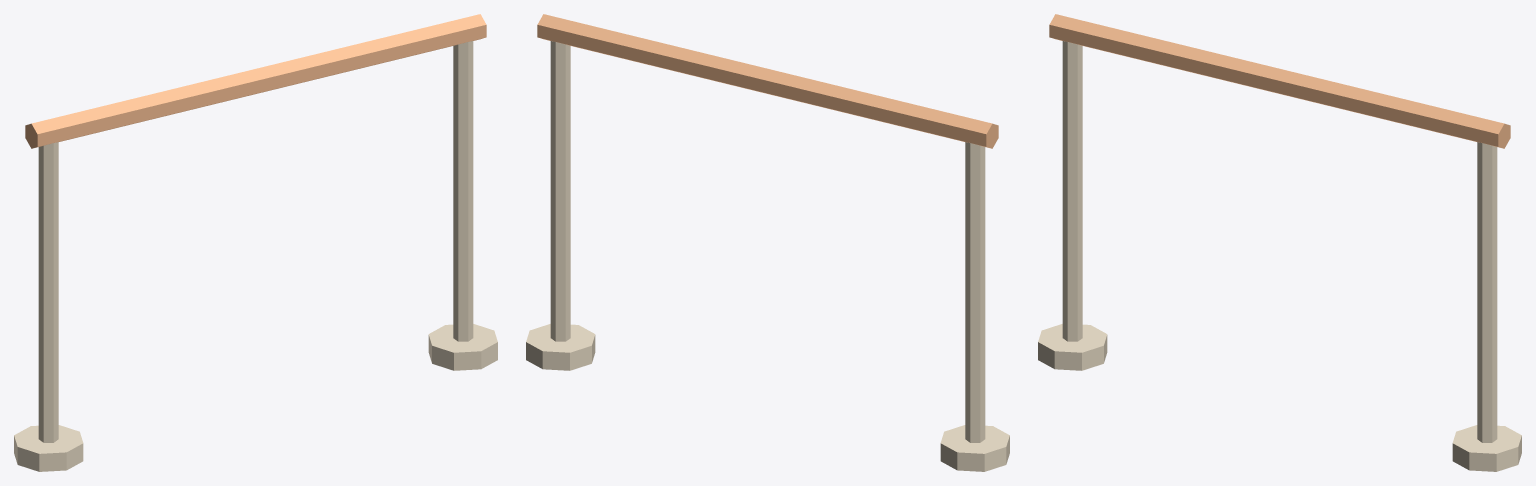
The picture shows the model from 3 angles, left to right: view 1: azimuth 30°, elevation 25°; view 2: azimuth 150°, elevation 25°; view 3: azimuth 330°, elevation 25°; orthographic projection.
Parts seen in each view (by area): view 1: Handrail, Post.001, Post, Foot.001, Foot; view 2: Handrail, Post.001, Post, Foot.001, Foot; view 3: Handrail, Post, Post.001, Foot, Foot.001.
Part boxes in pixels (x1,y1,x2,y2): Handrail: (25,14,486,148); Post.001: (453,41,473,341); Post: (38,142,58,442); Foot.001: (428,324,497,370); Foot: (14,425,83,471); Handrail: (537,14,998,148); Post.001: (550,41,570,341); Post: (965,142,985,442); Foot.001: (526,324,595,370); Foot: (940,425,1009,471); Handrail: (1049,14,1510,148); Post: (1062,41,1082,341); Post.001: (1477,142,1497,442); Foot: (1038,324,1107,370); Foot.001: (1452,425,1521,471).
Bounding box in the file's own units: 138 × 93.5 × 18.
